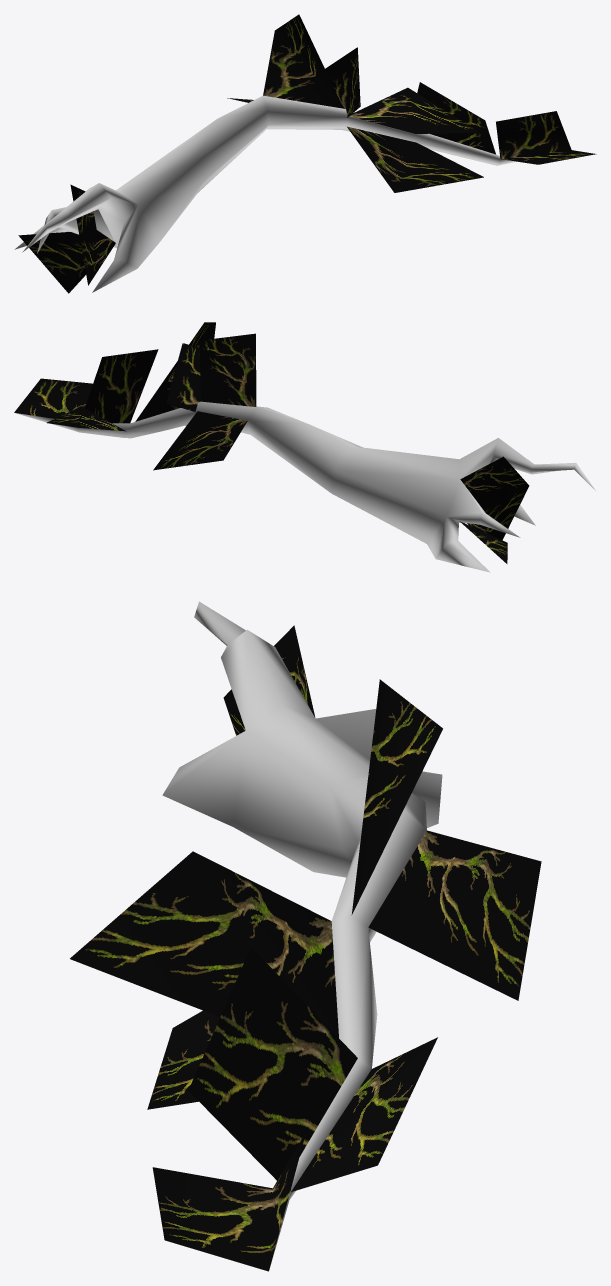
Rendered from tirisfallfallentree04.obj.
3 renders of one model, top to bottom at view 1: azimuth 30°, elevation 25°; view 2: azimuth 150°, elevation 25°; view 3: azimuth 270°, elevation 25°, orthographic. The views are drawn at different scales.
Visible parts, largest first — view 1: TIRISFALLFALLENTREE041, TIRISFALLFALLENTREE040; view 2: TIRISFALLFALLENTREE040, TIRISFALLFALLENTREE041; view 3: TIRISFALLFALLENTREE041, TIRISFALLFALLENTREE040.
Part boxes in pixels (x1,y1,x2,y2): TIRISFALLFALLENTREE041: (18, 14, 596, 293); TIRISFALLFALLENTREE040: (14, 95, 515, 292); TIRISFALLFALLENTREE040: (15, 401, 595, 572); TIRISFALLFALLENTREE041: (14, 322, 529, 563); TIRISFALLFALLENTREE041: (70, 625, 541, 1271); TIRISFALLFALLENTREE040: (162, 601, 442, 1264).
Bounding box in the file's own units: 52.71 × 17.01 × 19.05.
